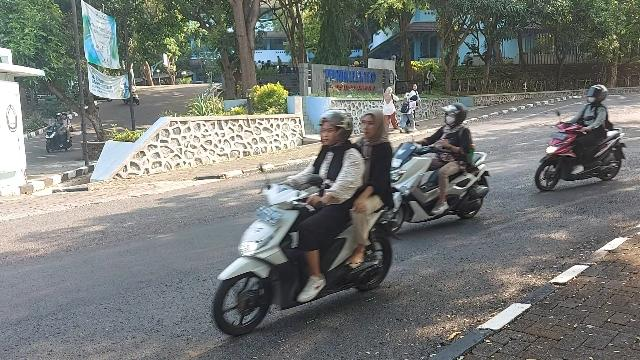helm: (319, 111, 354, 146), (440, 105, 468, 126), (588, 86, 609, 105)
motor: (214, 165, 401, 337), (391, 142, 492, 234), (536, 111, 628, 192)
non-helm: (362, 109, 385, 139)
